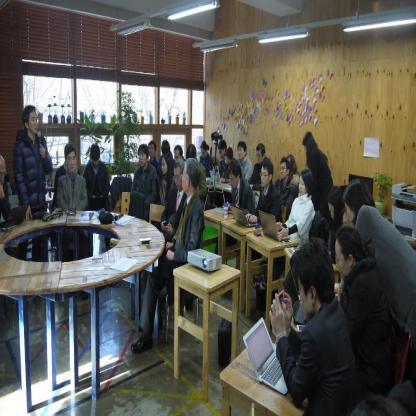board: (242, 315, 288, 398), (284, 268, 305, 324), (259, 209, 290, 238), (230, 205, 255, 229), (209, 172, 221, 182), (223, 202, 229, 219)
